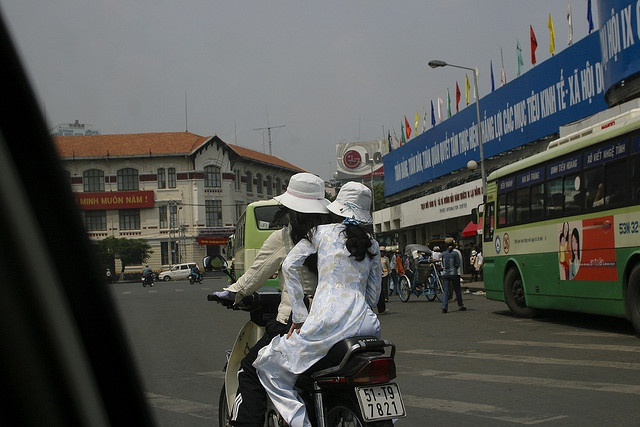non-vehicle: (202, 255, 406, 427), (187, 270, 203, 284), (141, 273, 155, 286)
